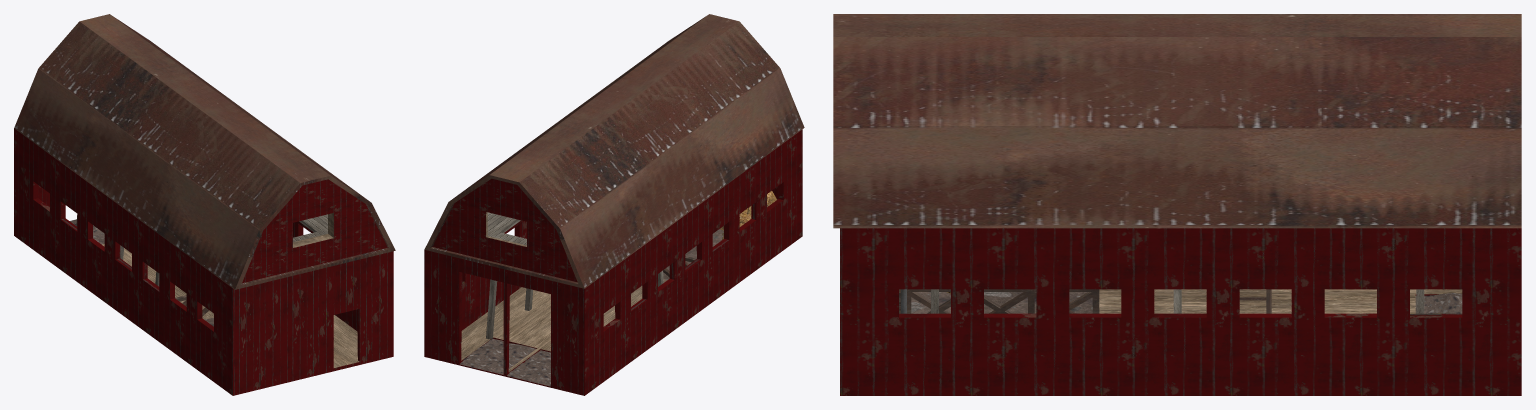
File: old_wooden_barn_house_4.glb
3 renders of one model, left to right at view 1: azimuth 30°, elevation 25°; view 2: azimuth 150°, elevation 25°; view 3: azimuth 270°, elevation 25°, orthographic. The views are drawn at different scales.
Parts seen in each view (by area): view 1: Cube.007_1, Cube.004_0, Cube.022_6, Cube.018_15, Cube.024_16, Cube.026_18; view 2: Cube.007_1, Cube.004_0, Cube.022_6, Cube.018_15, Plane.015_2, Cube.024_16, Cube.019_5; view 3: Cube.007_1, Cube.004_0, Cube.018_15, Cube.006_3, Cube.025_17, Plane.015_2, Cube.019_5.
Part boxes in pixels (x1,y1,x2,y2): Cube.007_1: (14,14,395,289); Cube.004_0: (14,128,393,395); Cube.022_6: (242,179,387,283); Cube.018_15: (102,244,359,367); Cube.024_16: (293,214,327,242); Cube.026_18: (293,213,333,247); Cube.007_1: (424,14,804,288); Cube.004_0: (424,129,802,395); Cube.022_6: (432,178,577,282); Cube.018_15: (461,279,667,371); Plane.015_2: (460,339,550,386); Cube.024_16: (487,212,526,245); Cube.019_5: (486,270,663,339); Cube.007_1: (833,14,1521,228); Cube.004_0: (840,228,1521,395); Cube.018_15: (1099,289,1462,313); Cube.006_3: (899,289,1099,313); Cube.025_17: (911,292,1092,313); Plane.015_2: (1415,293,1462,313); Cube.019_5: (931,289,1424,313).
Bounding box in the file's own units: 3.62 × 4.28 × 8.62.
11 materials, 11 textured.
